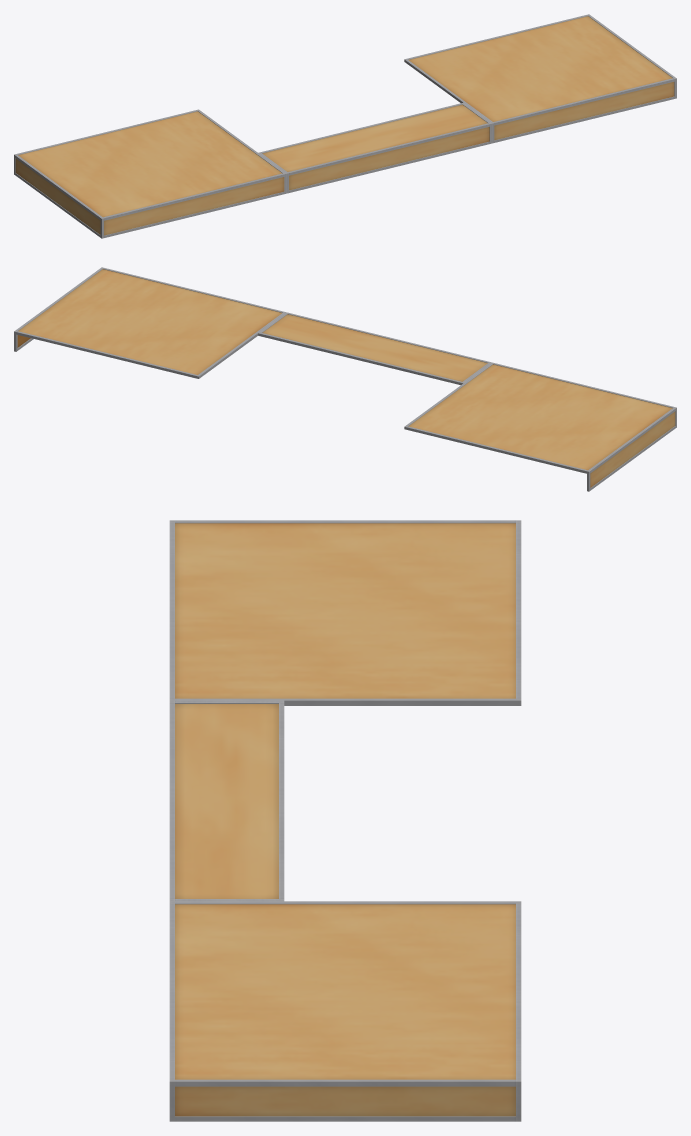
The model's file is jsf_2P_s04_c05_t02_DX.fbx.
3 renders of one model, top to bottom at view 1: azimuth 30°, elevation 25°; view 2: azimuth 150°, elevation 25°; view 3: azimuth 270°, elevation 25°, orthographic. The views are drawn at different scales.
Parts seen in each view (by area): view 1: jsf_2P_s04_c05_t02_DX; view 2: jsf_2P_s04_c05_t02_DX; view 3: jsf_2P_s04_c05_t02_DX.
Part boxes in pixels (x1=…): jsf_2P_s04_c05_t02_DX: x1=14, y1=14, x2=676, y2=238; jsf_2P_s04_c05_t02_DX: x1=14, y1=267, x2=676, y2=491; jsf_2P_s04_c05_t02_DX: x1=169, y1=520, x2=521, y2=1121.
Bounding box in the file's own units: 378 × 12.51 × 100.
